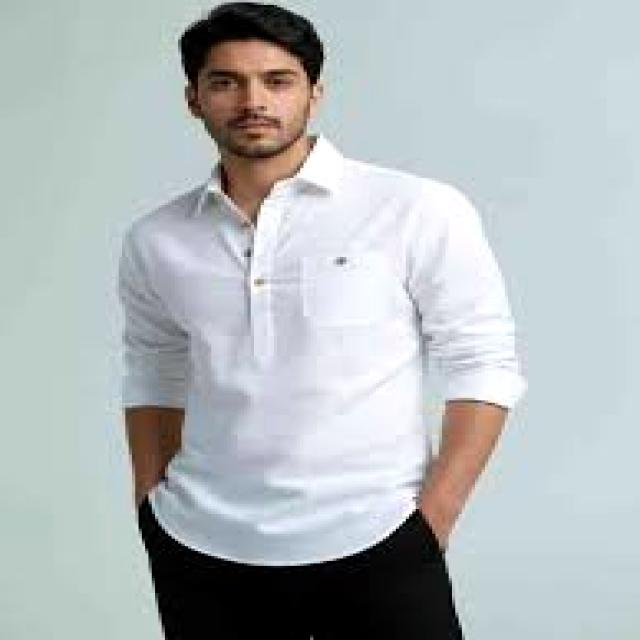face: (185, 40, 323, 158)
lower-wear: (139, 497, 461, 639)
top-wear: (119, 134, 527, 565)
